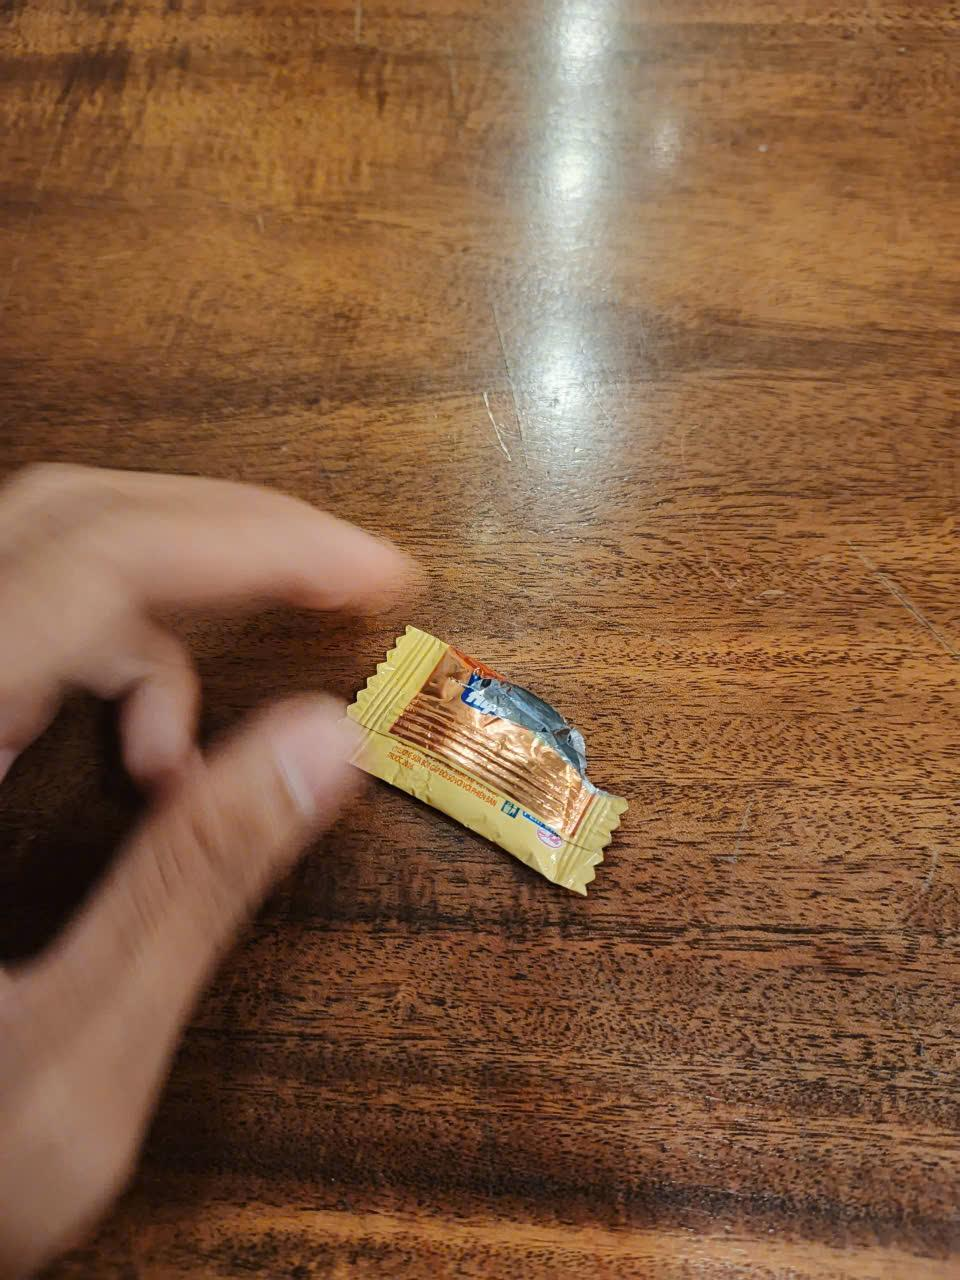Con lai: (340, 603, 626, 907)
